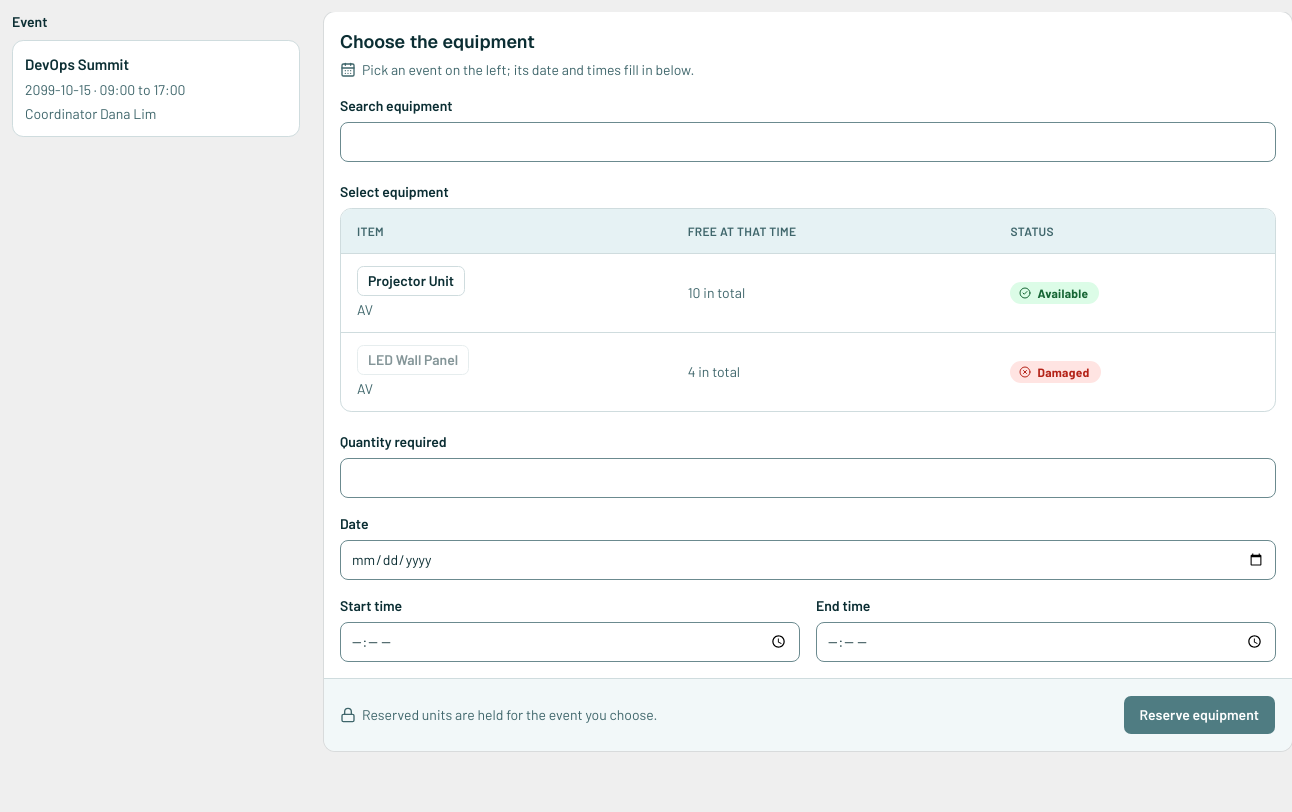
SCRUM-19 equipment reservation form › SCRUM-19/AC8: prompts for the date, start time and end time when they are left empty
This screenshot has width=1292, height=812.
Click the button "Projector Unit". click: (411, 280)
box: [357,266,465,296]
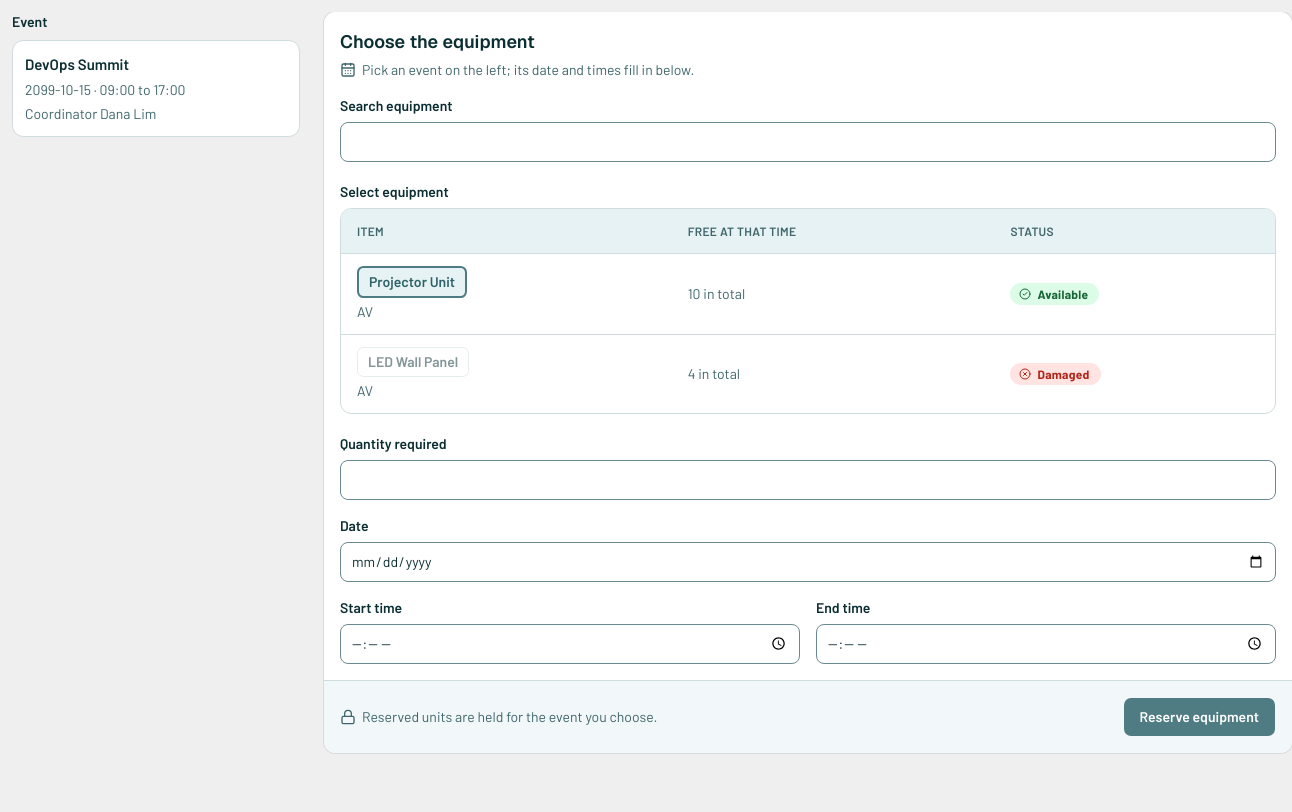
Type "4" into the number field labelled "Quantity required". click: (808, 480)
box: [340,460,1276,500]
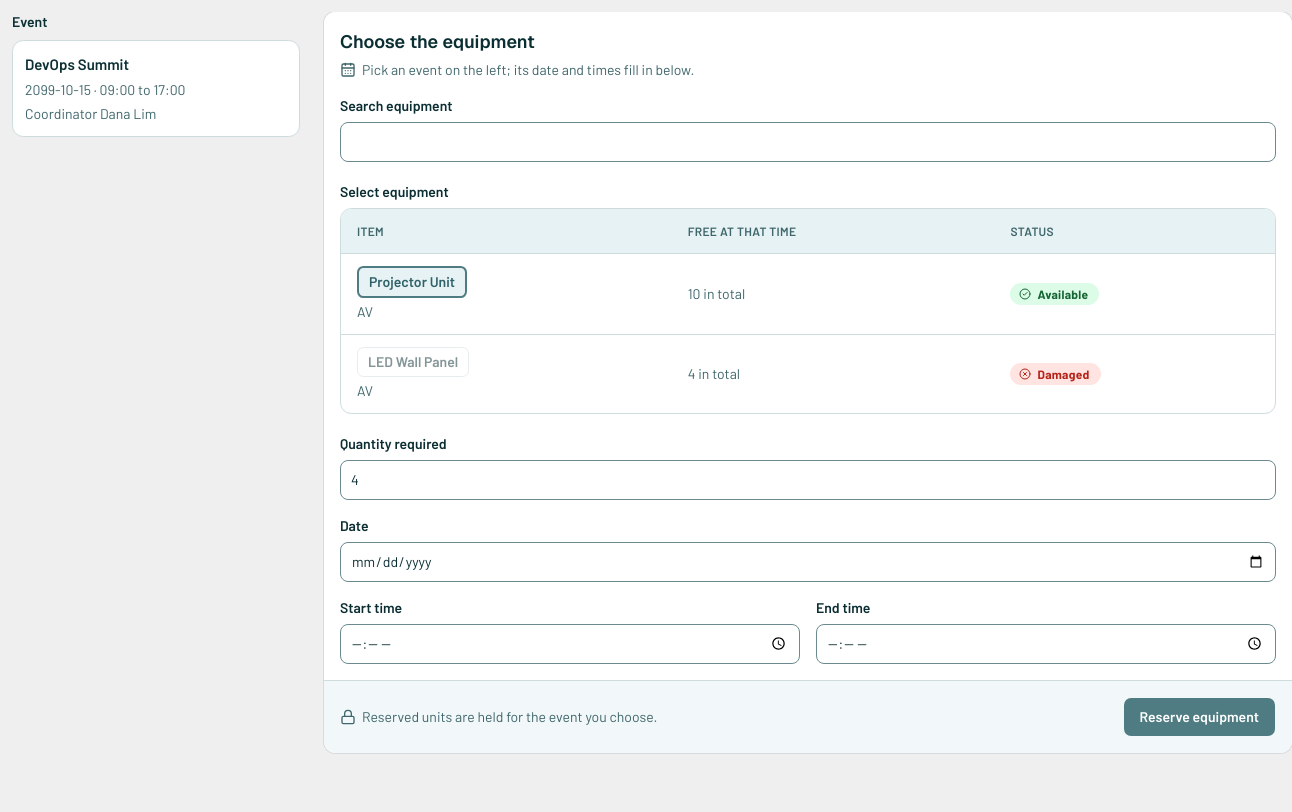
Click the button "Reserve equipment". click: (1199, 716)
box: [1122,696,1276,736]
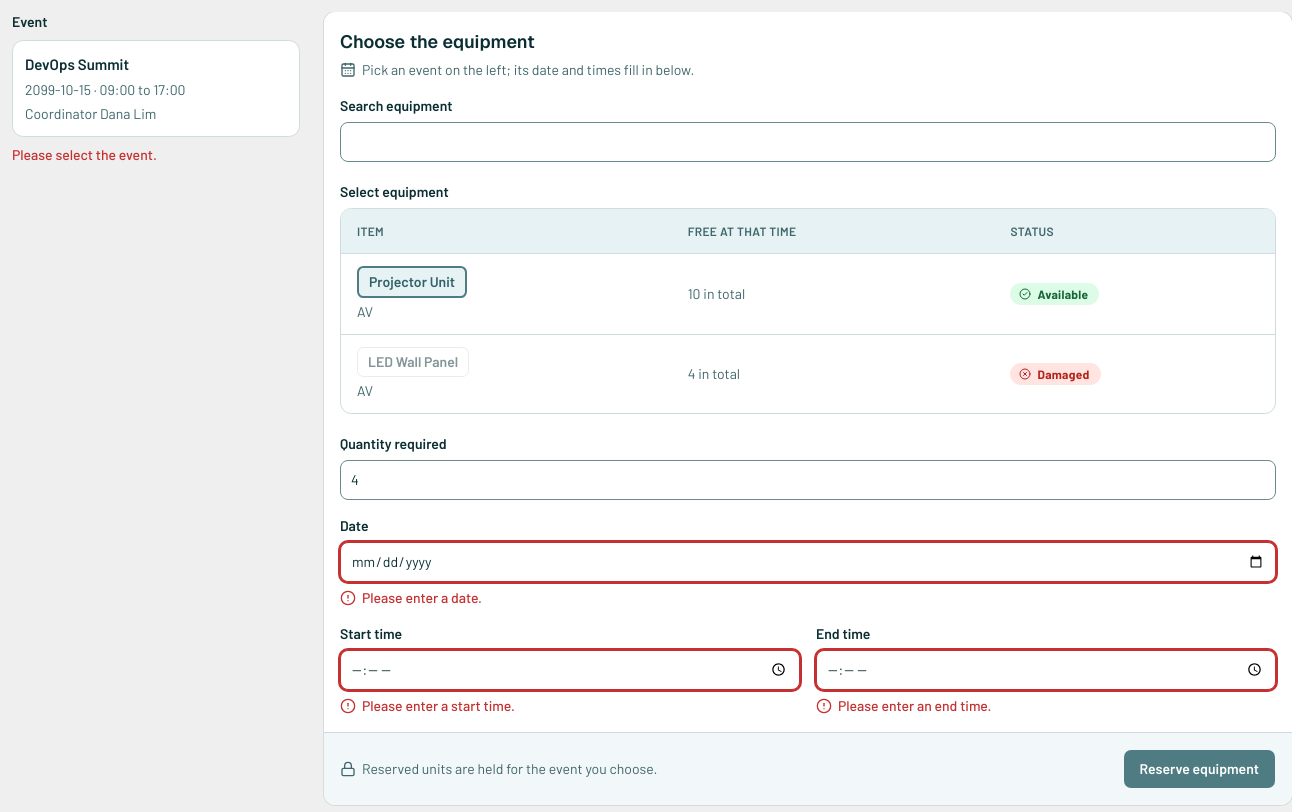
expect the text "Please enter a date." is shown: met, box [340,588,482,606]
expect the text "Please enter a start time." is shown: met, box [340,696,515,714]
expect the text "Please enter an end time." is shown: met, box [816,696,992,714]
